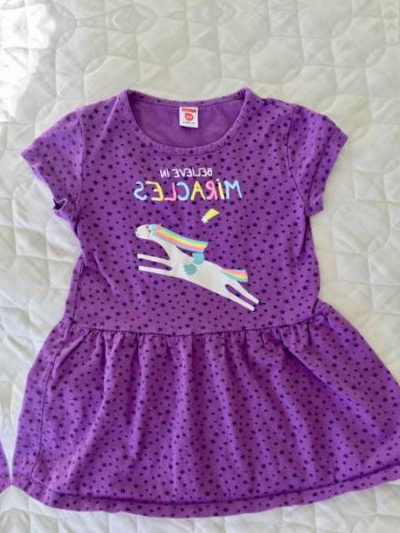Dress: (0, 77, 400, 530), (0, 108, 15, 533), (400, 45, 400, 498)
